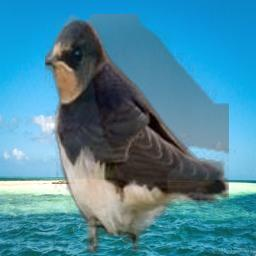Swallow: (45, 14, 229, 253)
